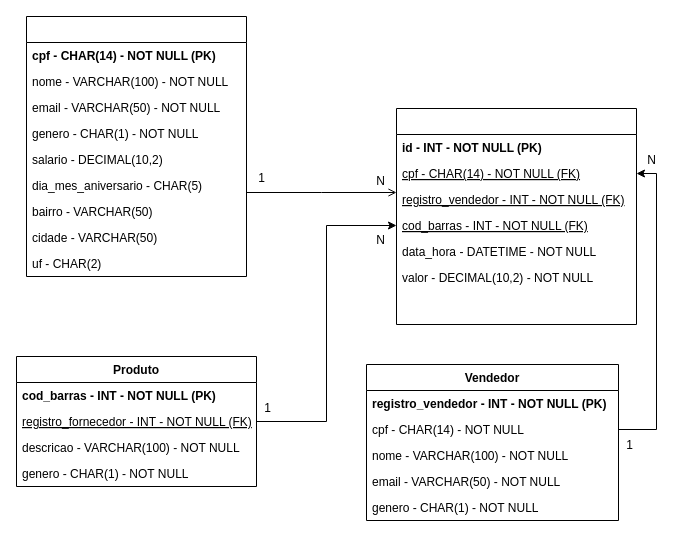
The diagram is 673 pixels wide and 537 high, and some of its shapes have lost their labels. The box of each missing label's shape, as (x1, y1, x2, y2) in pixels:
Cliente: (26, 16, 246, 276)
Venda: (396, 108, 636, 324)
